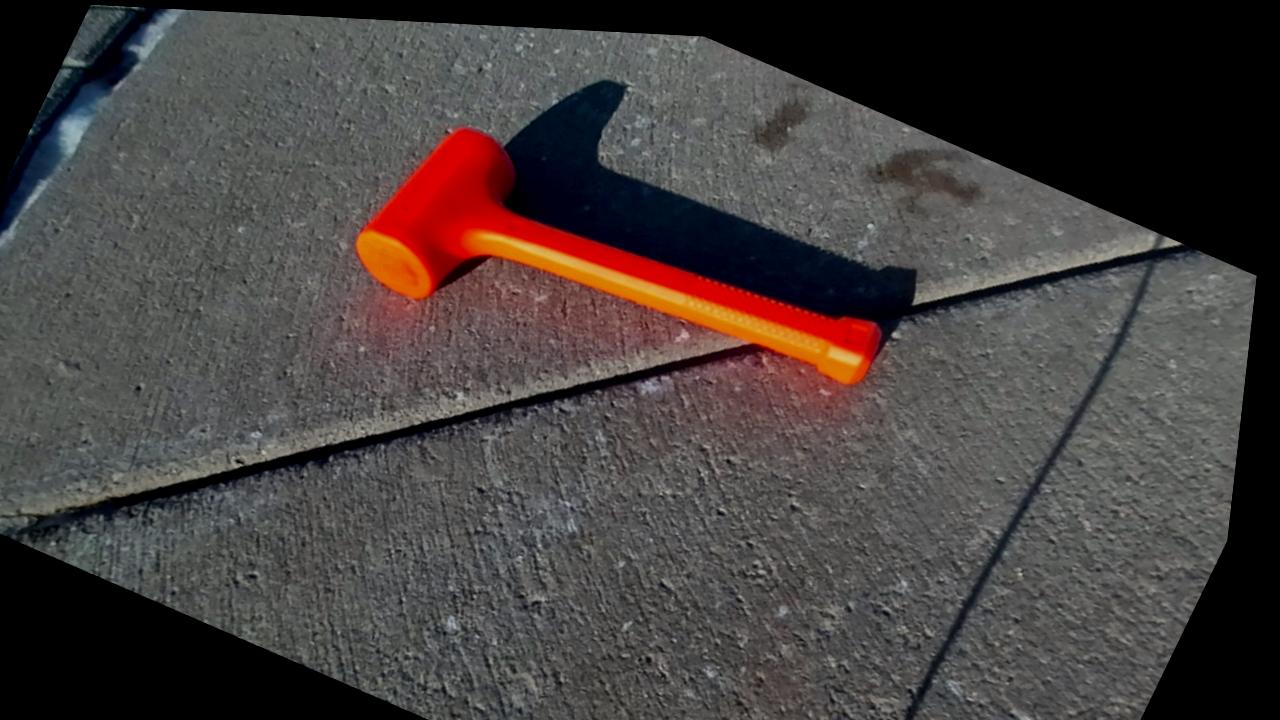mallet: (355, 128, 880, 383)
